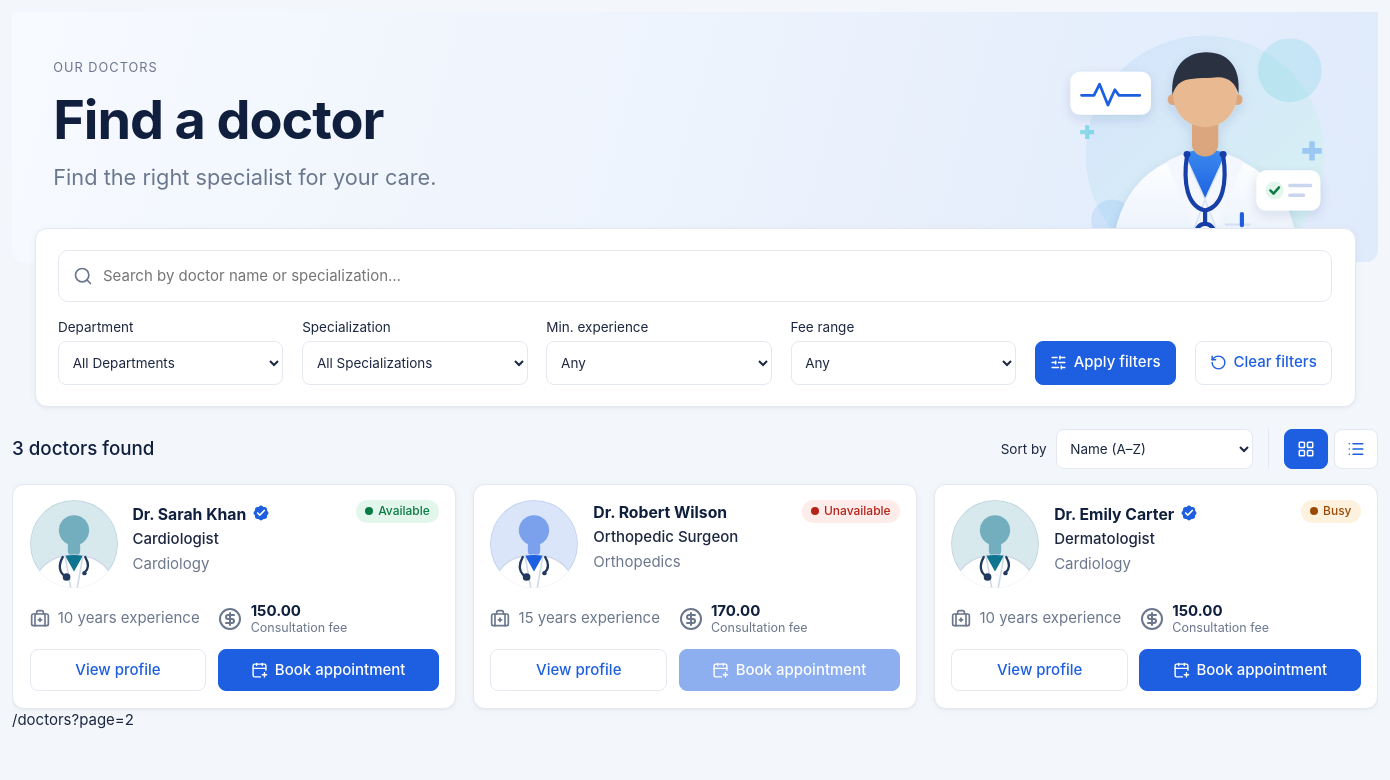
Test: search and filters › asks the API only when filters are applied, and goes back to page 1
Step 1. Type "wilson" into the search field → (710, 276), box [103,254,1318,298]
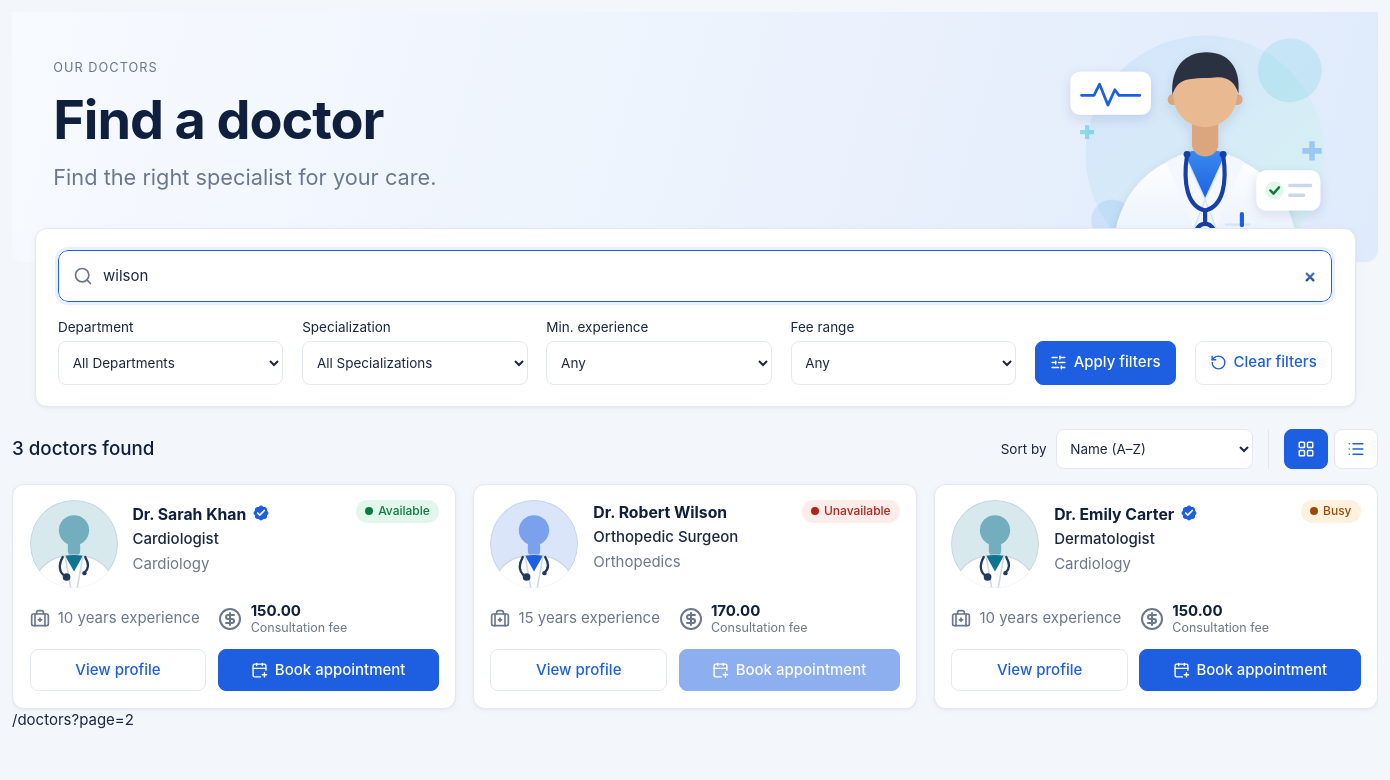
Step 2. Select "Orthopedics" in the dropdown labelled "Department" → (171, 362), box [58,340,283,384]
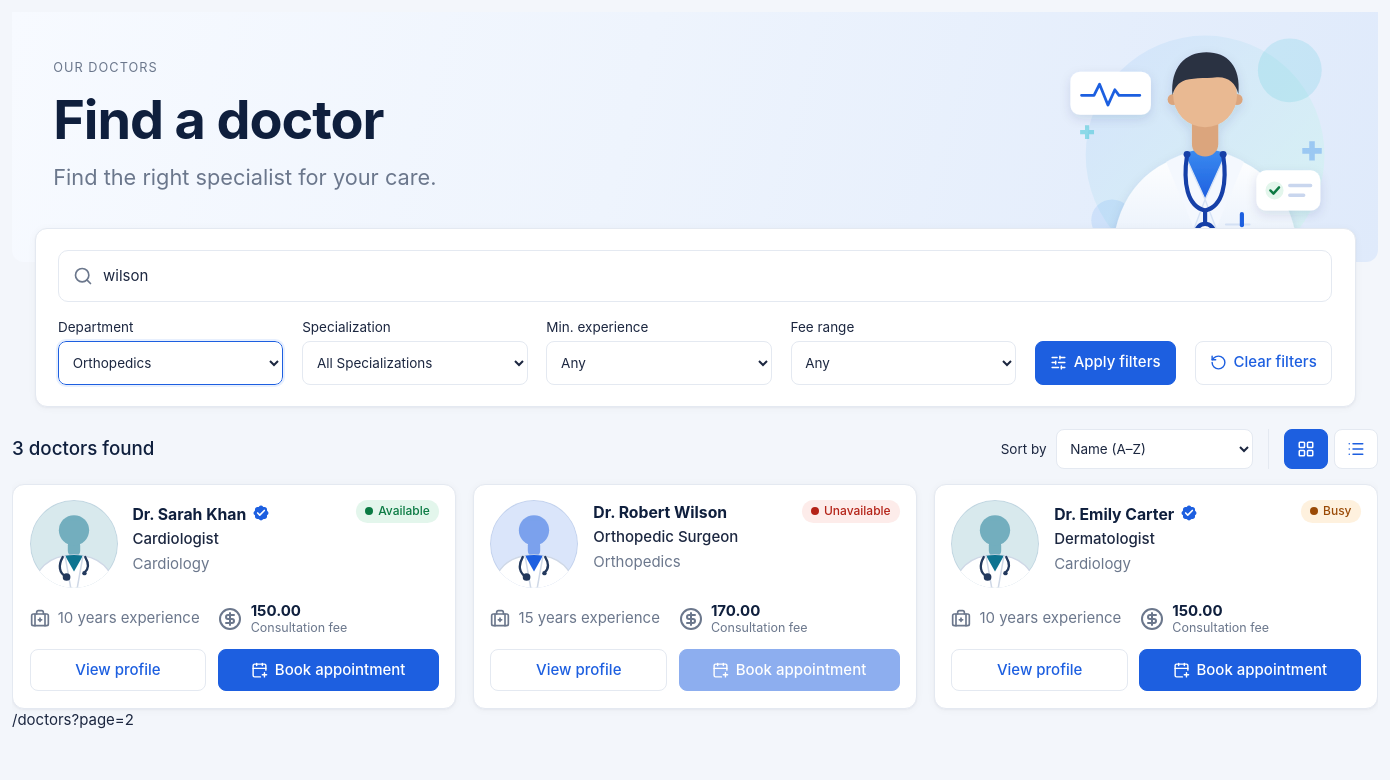
Step 3. Select "15+ years" in the dropdown labelled "Min. experience" → (659, 362), box [546,340,772,384]
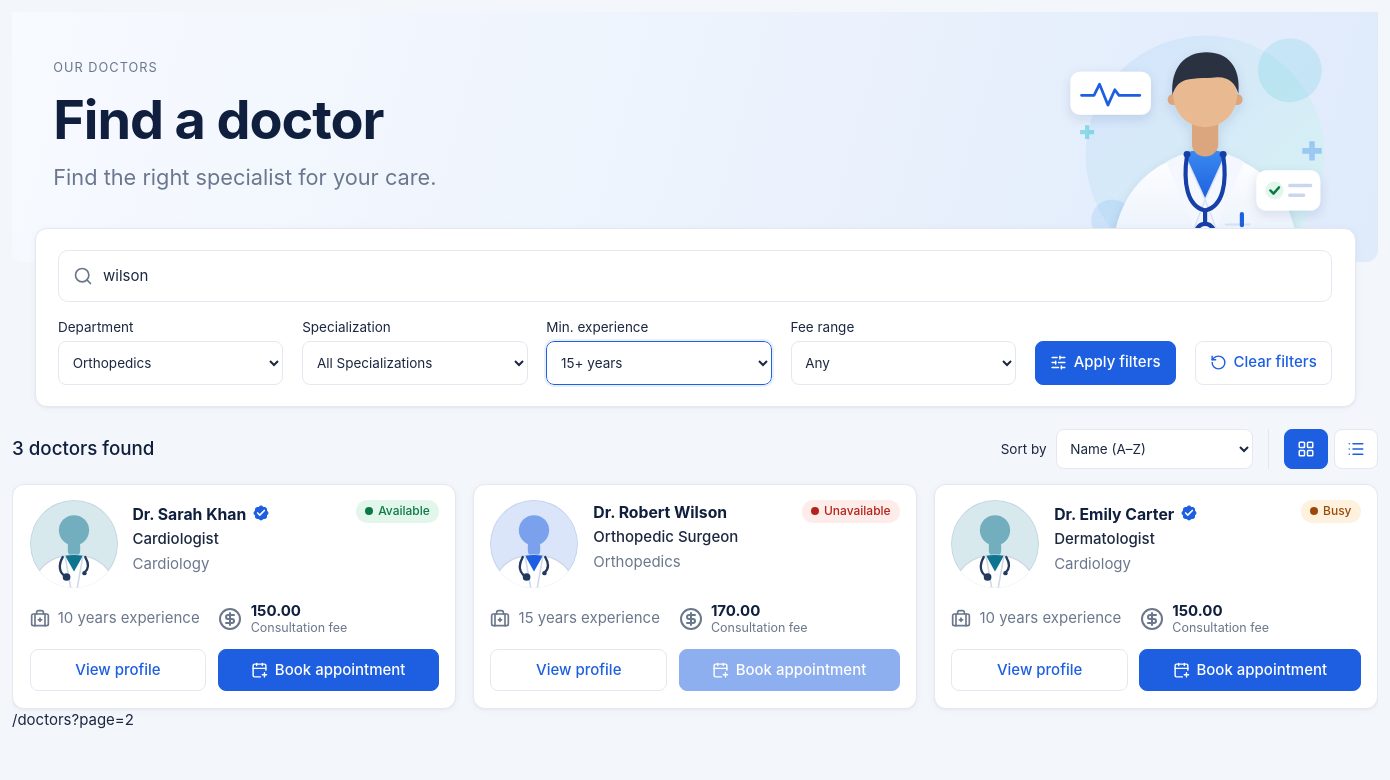
Step 4. Select "150 – 200" in the dropdown labelled "Fee range" → (903, 362), box [790,340,1016,384]
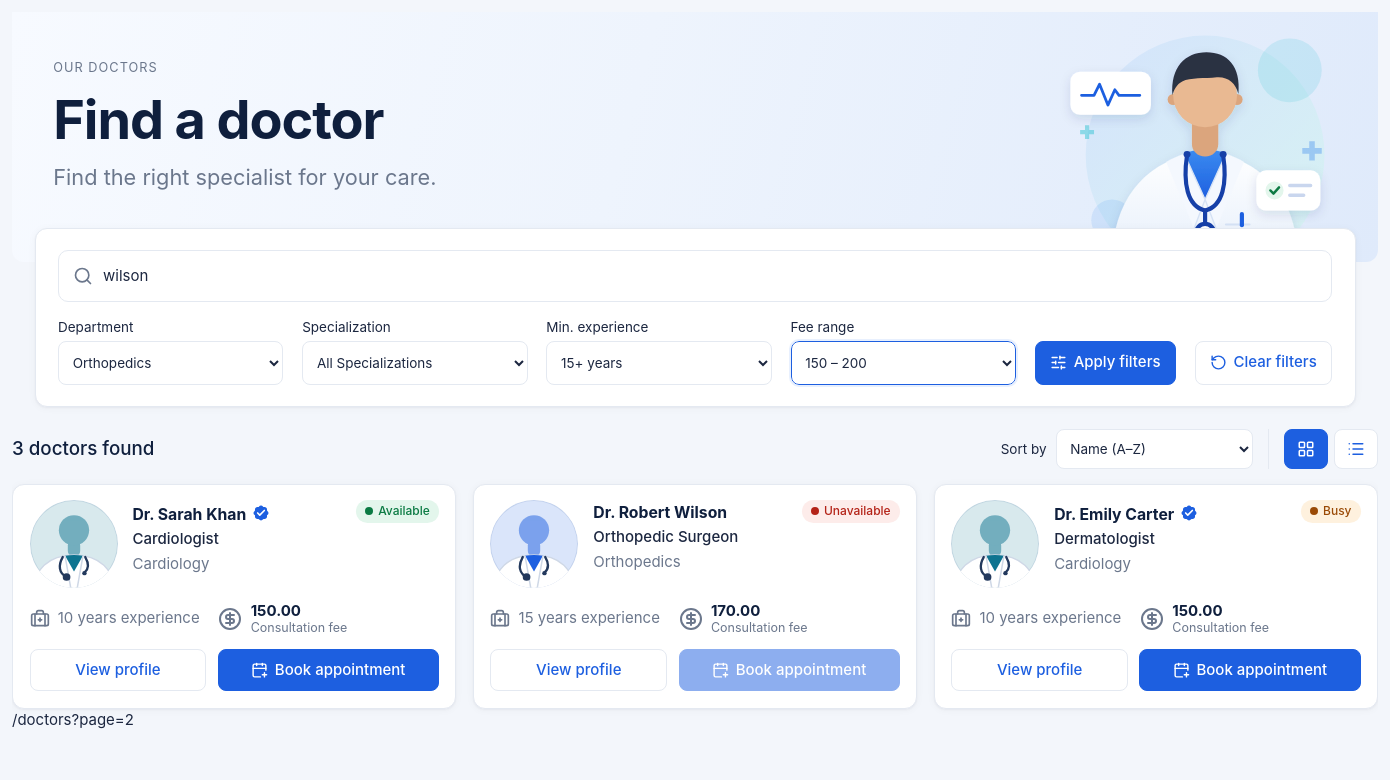
Step 5. Click the button "Apply filters" → (1105, 362), box [1035,340,1176,384]
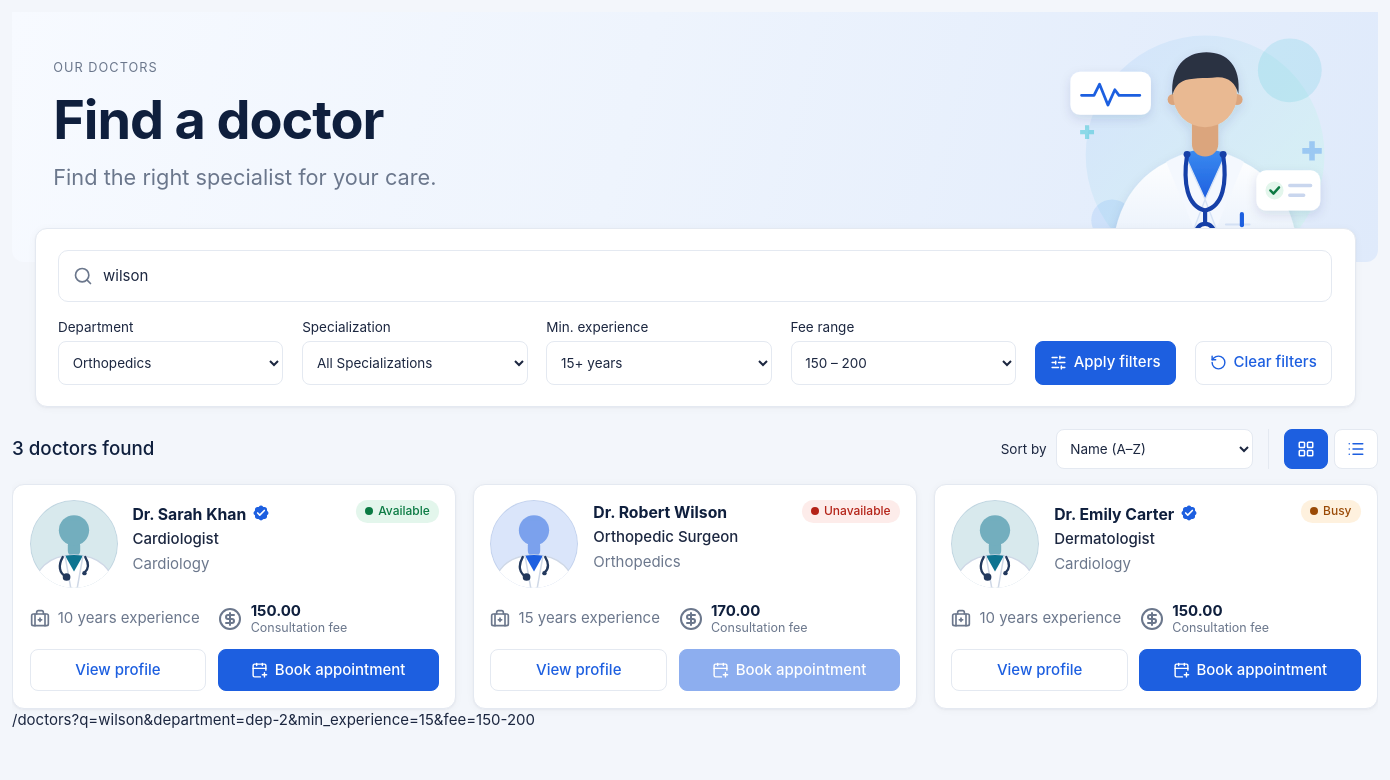
Expected: the text with test id "where" reads "/doctors?q=wilson&department=dep-2&min_experience=15&fee=150-200", [12,710,535,729]
